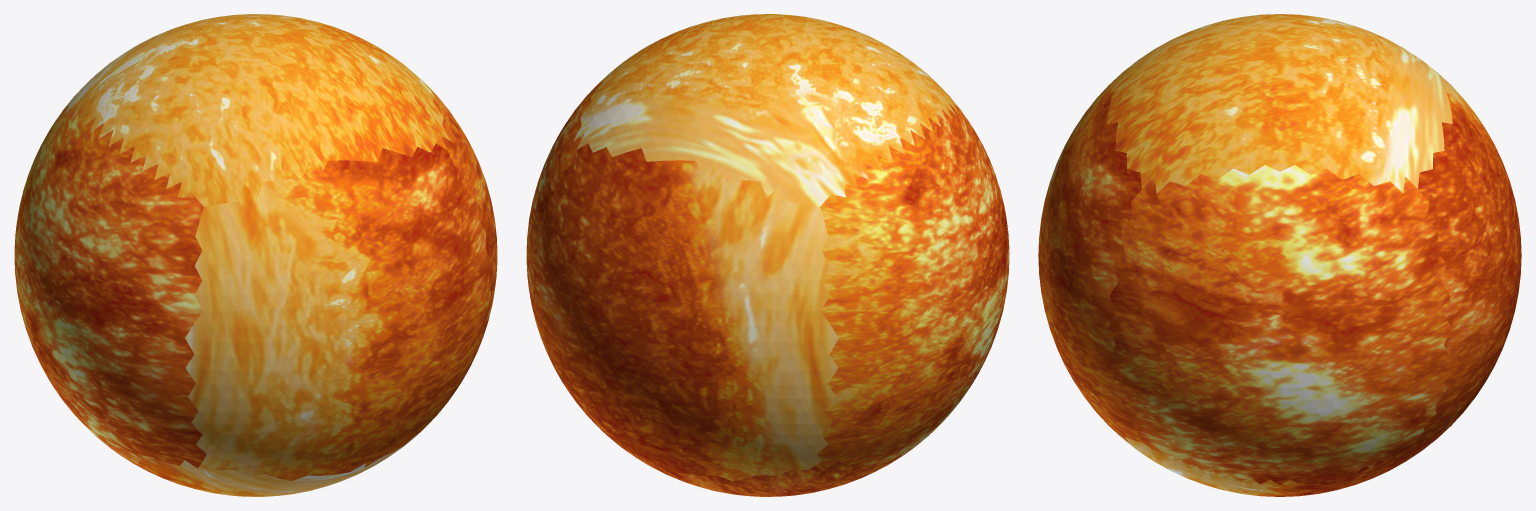
File: sun.obj
3 views of the same model, side by side, from view 1: azimuth 30°, elevation 25°; view 2: azimuth 150°, elevation 25°; view 3: azimuth 270°, elevation 25° (orthographic).
Parts seen in each view (by area): view 1: Icosphere; view 2: Icosphere; view 3: Icosphere.
Boxes of the visible parts, left/top/right/bottom form: Icosphere: left=14, top=14, right=497, bottom=496; Icosphere: left=526, top=14, right=1009, bottom=496; Icosphere: left=1038, top=14, right=1521, bottom=496.
Bounding box in the file's own units: 2 × 2 × 2.
